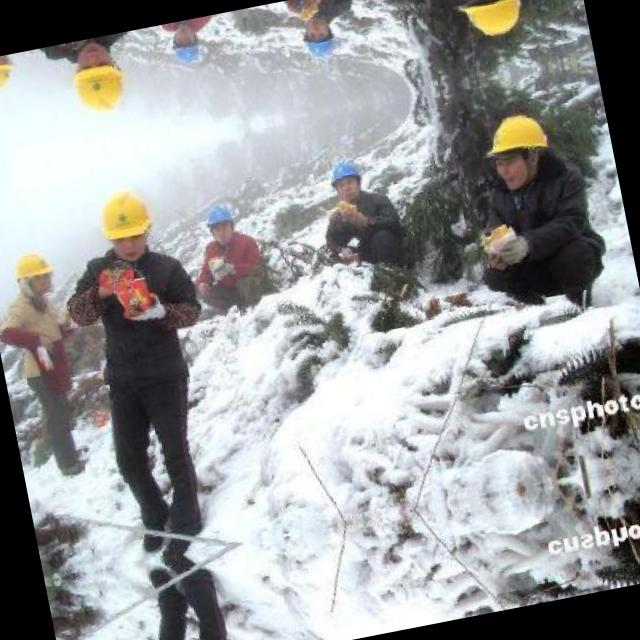helmet: (474, 101, 560, 196), (87, 175, 163, 268), (60, 34, 136, 126), (444, 0, 532, 48), (4, 238, 59, 304), (320, 152, 370, 205), (292, 11, 342, 64), (164, 21, 210, 72), (198, 193, 243, 244), (0, 54, 20, 104)
